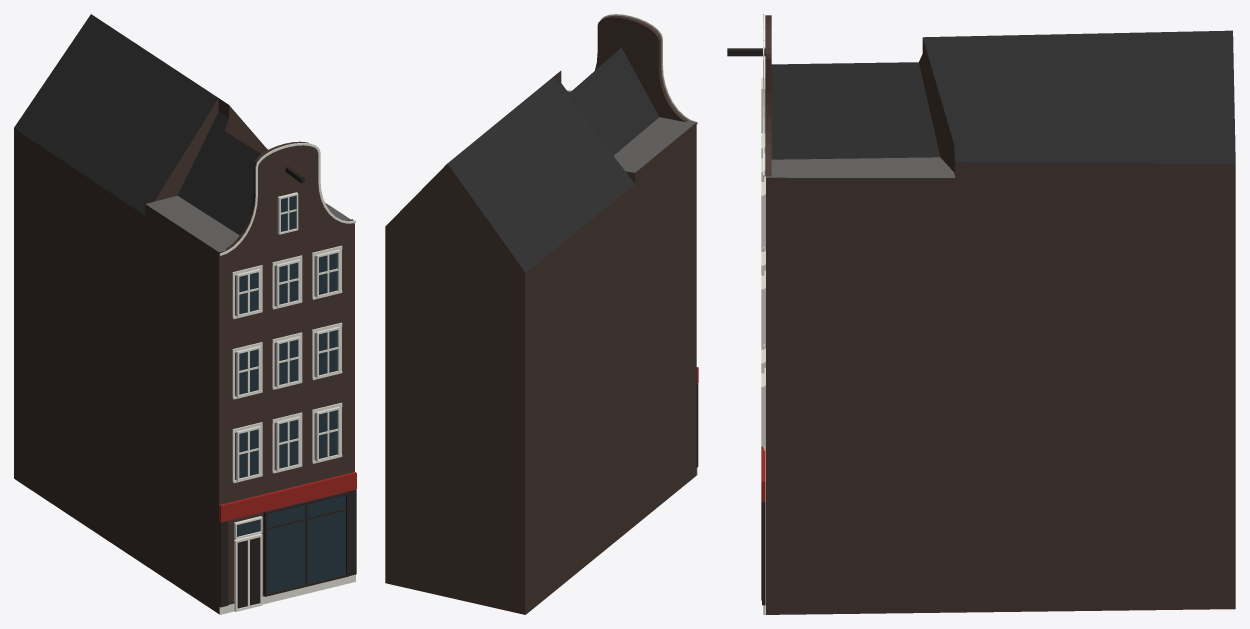
3 views of the same model, side by side, from view 1: azimuth 30°, elevation 25°; view 2: azimuth 150°, elevation 25°; view 3: azimuth 270°, elevation 25° (orthographic). The views are drawn at different scales.
Visible parts, largest first — view 1: spec-0363100012182710; view 2: spec-0363100012182710; view 3: spec-0363100012182710.
Boxes of the visible parts, box(x1,y1,x2,y2) form: spec-0363100012182710: box(14, 14, 356, 614); spec-0363100012182710: box(385, 14, 698, 614); spec-0363100012182710: box(727, 14, 1235, 614).
Size of the model in its own units: 6.02 by 17.28 by 14.42.
